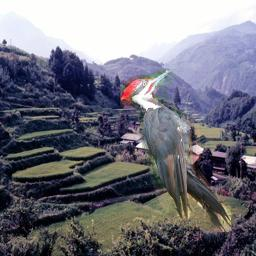Woodpecker: (120, 69, 231, 232)
